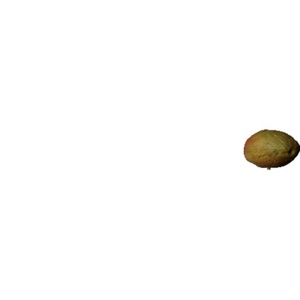mamão: (245, 127, 297, 169)
